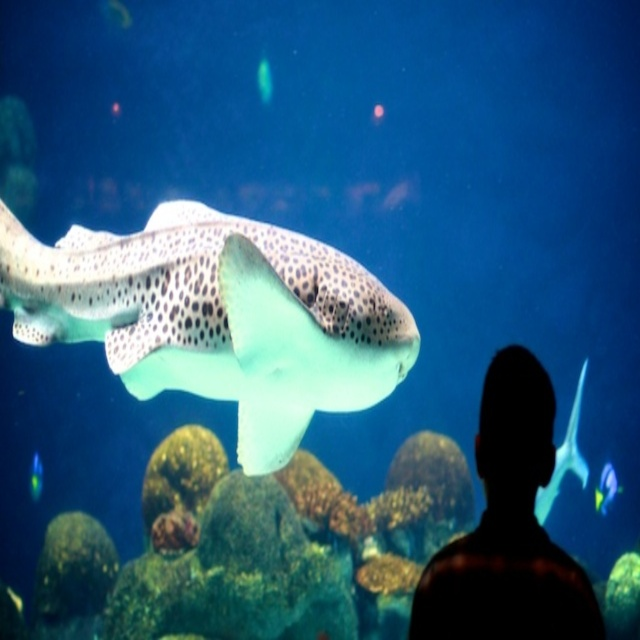Shark: (0, 189, 421, 477)
